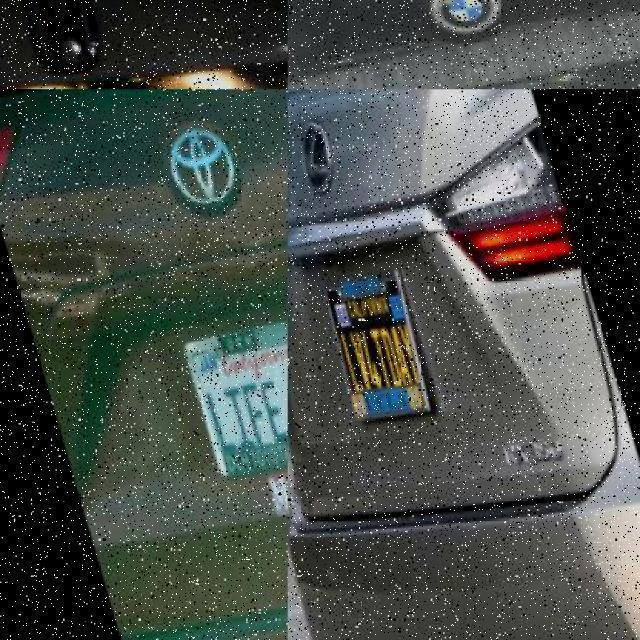License Plate: (176, 299, 288, 487), (319, 264, 433, 424), (0, 66, 256, 89)
